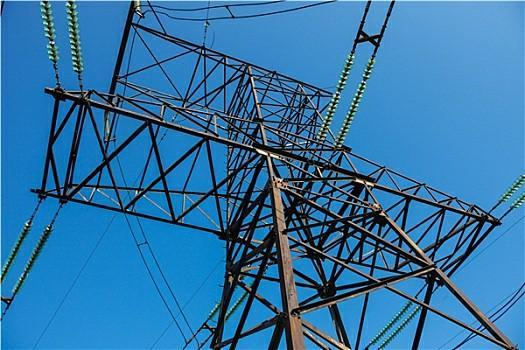power_tower: (15, 4, 523, 350)
